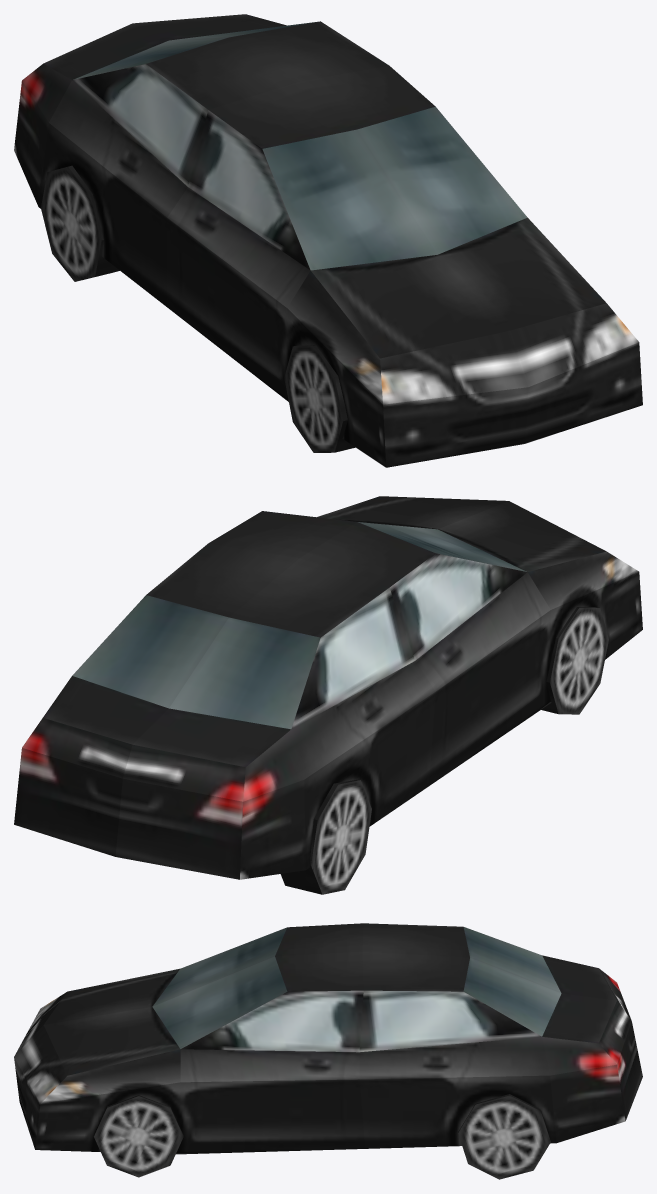
File: Car.fbx
3 views of the same model, one above another, from view 1: azimuth 30°, elevation 25°; view 2: azimuth 150°, elevation 25°; view 3: azimuth 270°, elevation 25° (orthographic). The views are drawn at different scales.
Parts seen in each view (by area): view 1: Cube.001; view 2: Cube.001; view 3: Cube.001.
Part boxes in pixels (x1=…): Cube.001: x1=14, y1=14, x2=642, y2=467; Cube.001: x1=14, y1=496, x2=642, y2=894; Cube.001: x1=14, y1=923, x2=642, y2=1179.
Size of the model in its own units: 1.67 by 1.38 by 4.42.
